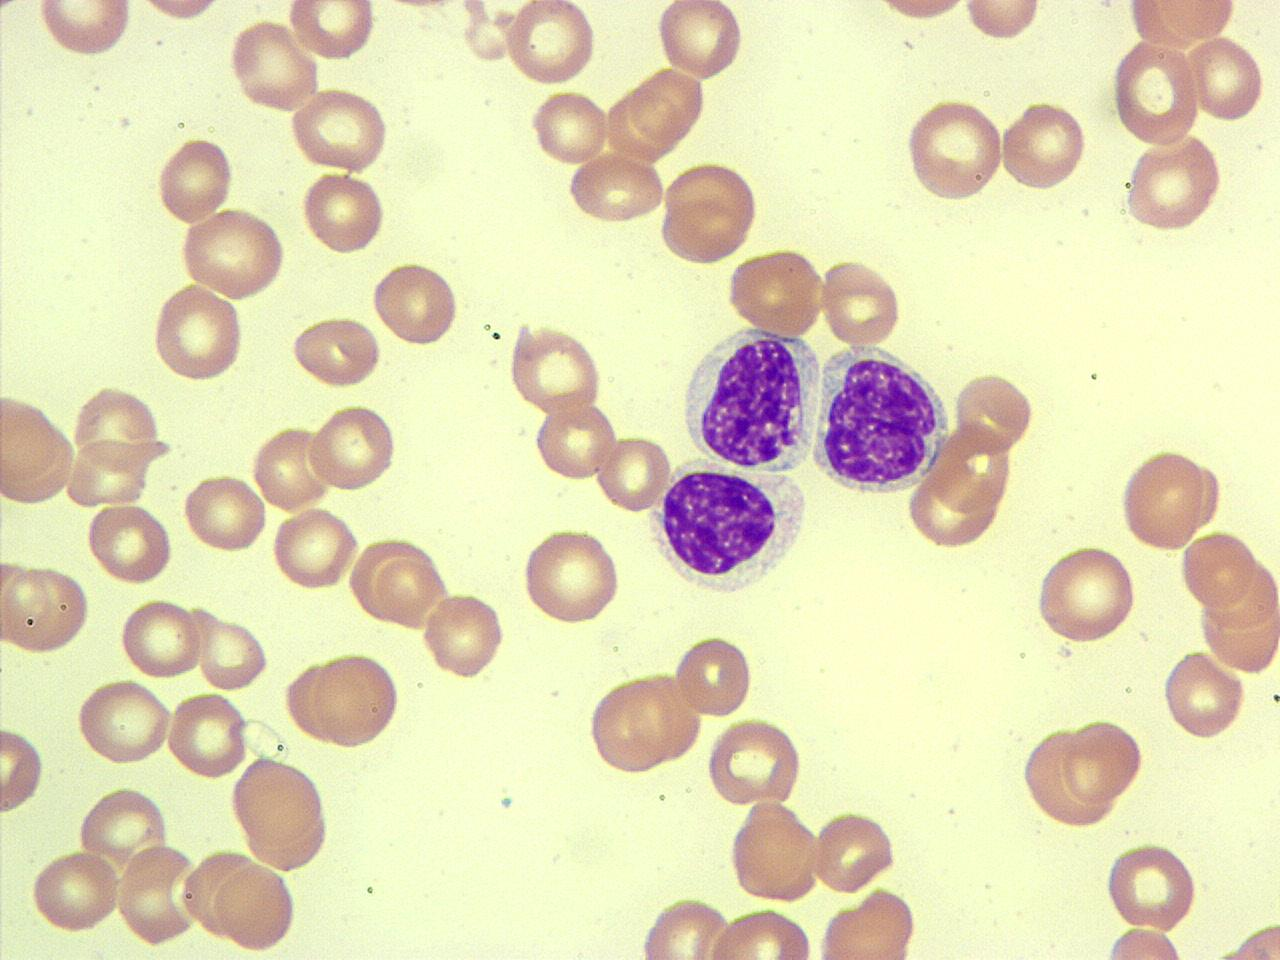RBC: (584, 668, 702, 776), (228, 754, 334, 872), (1117, 444, 1225, 554), (900, 96, 1007, 206), (658, 158, 762, 267), (1034, 542, 1140, 647), (1120, 131, 1226, 235), (520, 524, 624, 628), (178, 206, 288, 302), (1109, 38, 1203, 148), (150, 280, 247, 384), (506, 318, 606, 417), (726, 800, 822, 902), (704, 715, 806, 809), (312, 648, 404, 752), (114, 840, 202, 948), (1102, 838, 1200, 934), (724, 246, 825, 339), (226, 16, 319, 116), (75, 676, 175, 769), (287, 86, 392, 174), (1020, 724, 1108, 828), (70, 381, 167, 475), (998, 97, 1088, 197), (306, 402, 400, 495), (0, 560, 91, 656), (370, 258, 464, 349), (904, 465, 1004, 550), (1, 388, 73, 506), (502, 2, 598, 87), (29, 848, 121, 936), (1161, 648, 1247, 742), (270, 504, 359, 594), (300, 168, 388, 259), (653, 0, 747, 85), (85, 500, 176, 587), (930, 422, 1016, 514), (818, 256, 904, 348), (1060, 714, 1146, 806), (421, 588, 506, 681), (814, 886, 922, 959), (952, 367, 1038, 458), (810, 806, 896, 897), (155, 132, 237, 227), (565, 150, 667, 226), (1184, 33, 1268, 125), (164, 690, 248, 782), (118, 594, 205, 682), (250, 421, 334, 512), (217, 860, 298, 954), (76, 784, 171, 864), (182, 470, 269, 556), (672, 631, 756, 720), (532, 399, 618, 484), (288, 313, 382, 389), (62, 436, 157, 508), (528, 86, 611, 168), (370, 548, 447, 632), (596, 430, 672, 515), (636, 893, 733, 959), (1180, 527, 1258, 609), (704, 904, 818, 960), (194, 612, 271, 693), (33, 1, 136, 59), (1124, 0, 1238, 52), (286, 0, 378, 64), (0, 725, 47, 817), (960, 0, 1045, 43), (1098, 923, 1194, 960), (862, 0, 978, 27), (128, 0, 230, 26), (1222, 918, 1280, 960)
WBC: (646, 456, 812, 601), (676, 322, 824, 473), (812, 342, 952, 499)
